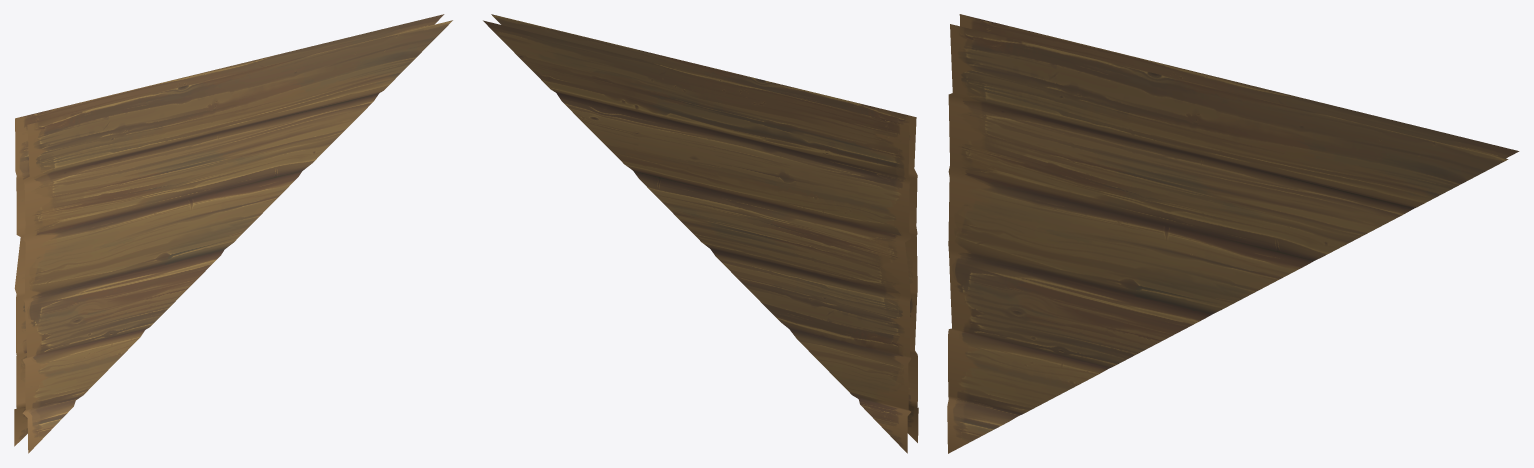
The model's file is SM_MOD_wall_sloped_inverted_planks_hor_town.fbx.
3 renders of one model, left to right at view 1: azimuth 30°, elevation 25°; view 2: azimuth 150°, elevation 25°; view 3: azimuth 330°, elevation 25°, orthographic. The views are drawn at different scales.
Visible parts, largest first — view 1: SM_MOD_wall_sloped_inverted_planks_hor_town; view 2: SM_MOD_wall_sloped_inverted_planks_hor_town; view 3: SM_MOD_wall_sloped_inverted_planks_hor_town.
Boxes of the visible parts, box(x1,y1,x2,y2) form: SM_MOD_wall_sloped_inverted_planks_hor_town: box(14, 14, 452, 453); SM_MOD_wall_sloped_inverted_planks_hor_town: box(483, 14, 918, 453); SM_MOD_wall_sloped_inverted_planks_hor_town: box(947, 14, 1519, 453).
Size of the model in its own units: 371 by 271 by 18.06.
